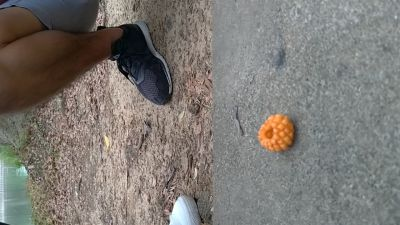eggs: (258, 115, 296, 151)
